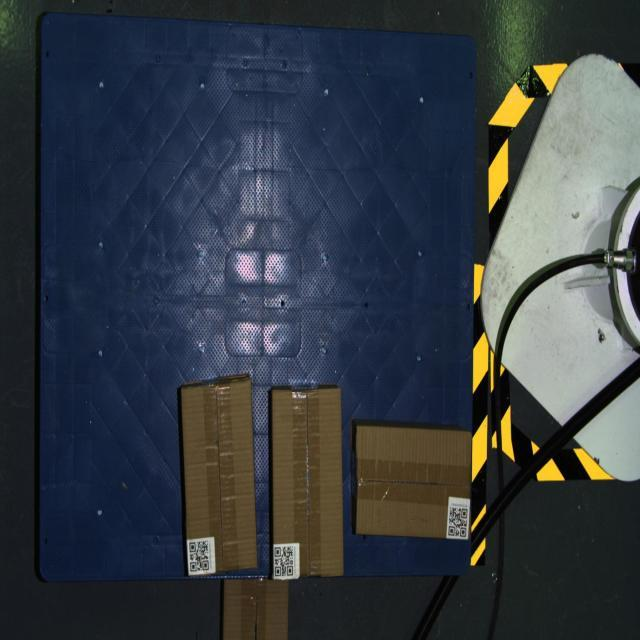box: (181, 380, 258, 576), (272, 388, 344, 580), (356, 426, 472, 540)
